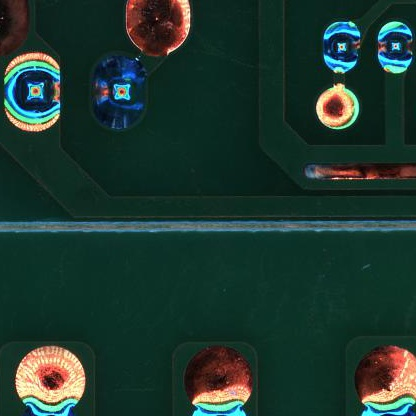spot: (4, 52, 63, 133), (91, 53, 148, 131), (374, 22, 416, 75), (322, 22, 361, 75)
